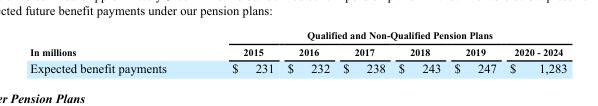table: (29, 29, 566, 74)
table column: (29, 29, 198, 74), (198, 29, 280, 74), (502, 29, 566, 74), (335, 29, 391, 74), (446, 29, 502, 74), (280, 29, 335, 74), (391, 29, 446, 74)
table column header: (29, 29, 566, 58)
table row: (29, 42, 566, 58), (29, 58, 566, 74), (29, 29, 566, 42)
table spanning cell: (29, 29, 198, 58), (198, 29, 566, 42)
